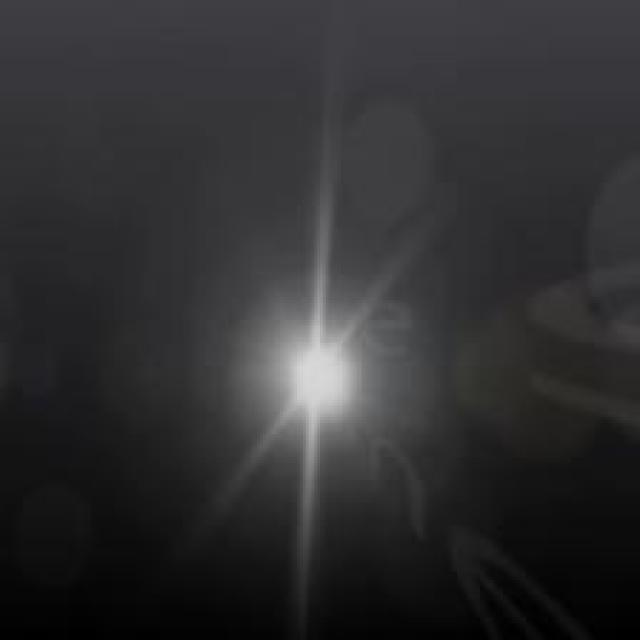other: (262, 298, 390, 460)
